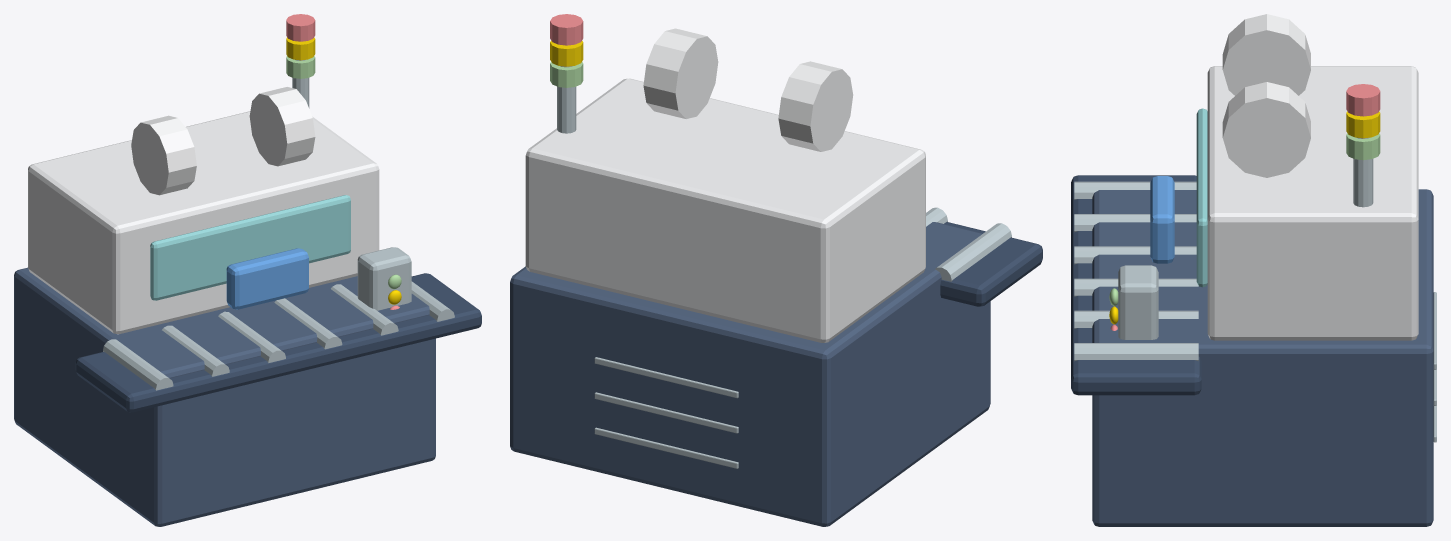
Rendered from machine-label.glb.
3 renders of one model, left to right at view 1: azimuth 30°, elevation 25°; view 2: azimuth 150°, elevation 25°; view 3: azimuth 270°, elevation 25°, orthographic. The views are drawn at different scales.
Visible parts, largest first — view 1: Machine pedestal.004, Upper body.004, Belt.012, Safety visor.004, Console.004, Label roll, Label applicator, Control button.014, Control button.012, Control button.013; view 2: Machine pedestal.004, Upper body.004, Label roll, Console.004, Belt.012, Control button.014, Control button.013, Control button.012; view 3: Machine pedestal.004, Upper body.004, Label roll, Console.004, Belt.012, Label applicator, Safety visor.004, Control button.014, Control button.013, Control button.012.
Part boxes in pixels (left/top/right/bottom): Machine pedestal.004: left=14, top=267, right=435, bottom=526; Upper body.004: left=28, top=111, right=379, bottom=334; Belt.012: left=75, top=273, right=481, bottom=412; Safety visor.004: left=150, top=195, right=350, bottom=300; Console.004: left=103, top=59, right=454, bottom=390; Label roll: left=131, top=87, right=315, bottom=195; Label applicator: left=226, top=248, right=308, bottom=309; Control button.014: left=286, top=14, right=399, bottom=309; Control button.012: left=286, top=56, right=401, bottom=289; Control button.013: left=286, top=37, right=401, bottom=304; Machine pedestal.004: left=510, top=222, right=990, bottom=526; Upper body.004: left=525, top=78, right=925, bottom=342; Label roll: left=643, top=28, right=853, bottom=151; Console.004: left=557, top=66, right=1011, bottom=468; Belt.012: left=940, top=222, right=1042, bottom=306; Control button.014: left=550, top=14, right=583, bottom=45; Control button.013: left=550, top=40, right=583, bottom=66; Control button.012: left=550, top=62, right=583, bottom=87; Machine pedestal.004: left=1092, top=189, right=1433, bottom=526; Upper body.004: left=1207, top=66, right=1418, bottom=340; Label roll: left=1222, top=14, right=1310, bottom=177; Console.004: left=1074, top=137, right=1436, bottom=442; Belt.012: left=1071, top=175, right=1201, bottom=395; Label applicator: left=1150, top=176, right=1174, bottom=263; Safety visor.004: left=1196, top=108, right=1207, bottom=287; Control button.014: left=1110, top=84, right=1380, bottom=330; Control button.013: left=1109, top=111, right=1380, bottom=324; Control button.012: left=1109, top=133, right=1380, bottom=306.
Bounding box in the file's own units: 2.4 × 2.34 × 1.82.
